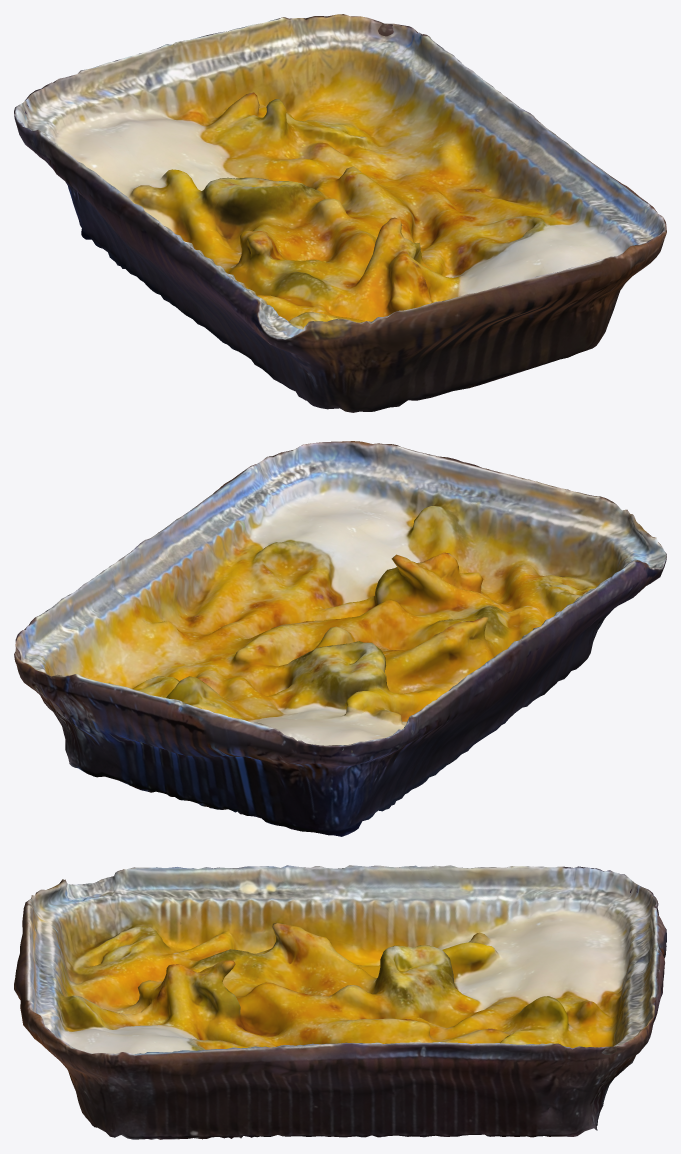
File: 6-mexican fries_1756916717240.glb
The picture shows the model from 3 angles, top to bottom: view 1: azimuth 30°, elevation 25°; view 2: azimuth 150°, elevation 25°; view 3: azimuth 270°, elevation 25°; orthographic projection. The views are drawn at different scales.
Visible parts, largest first — view 1: 3DModel; view 2: 3DModel; view 3: 3DModel.
Part boxes in pixels (bbox=[...]): 3DModel: bbox=[14, 14, 666, 412]; 3DModel: bbox=[14, 441, 666, 836]; 3DModel: bbox=[14, 865, 666, 1139].
Bounding box in the file's own units: 7.12 × 2.29 × 10.23.
1 material, 1 textured.
